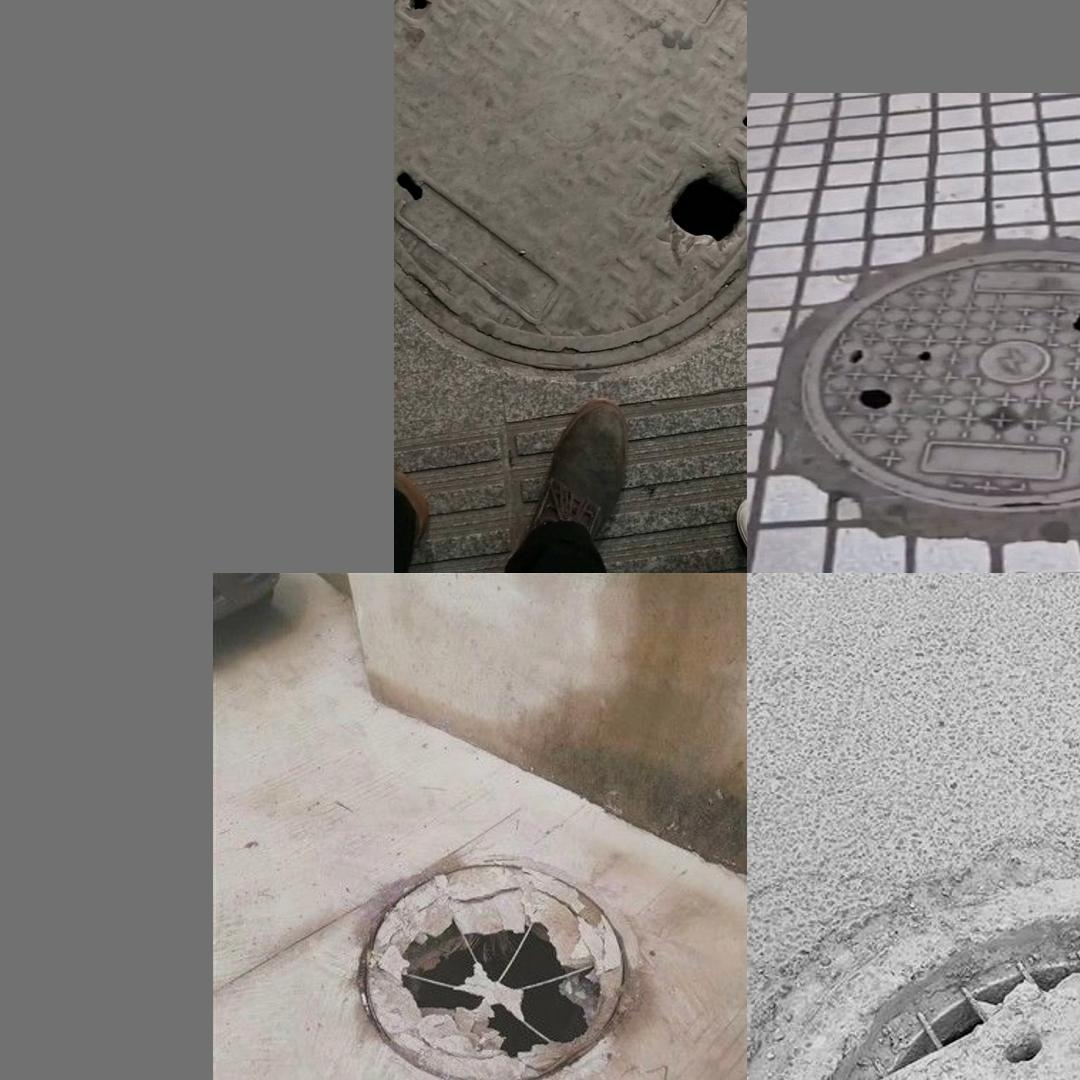broke: (394, 0, 745, 368), (334, 840, 668, 1080), (764, 838, 1080, 1080), (799, 255, 1080, 513)
